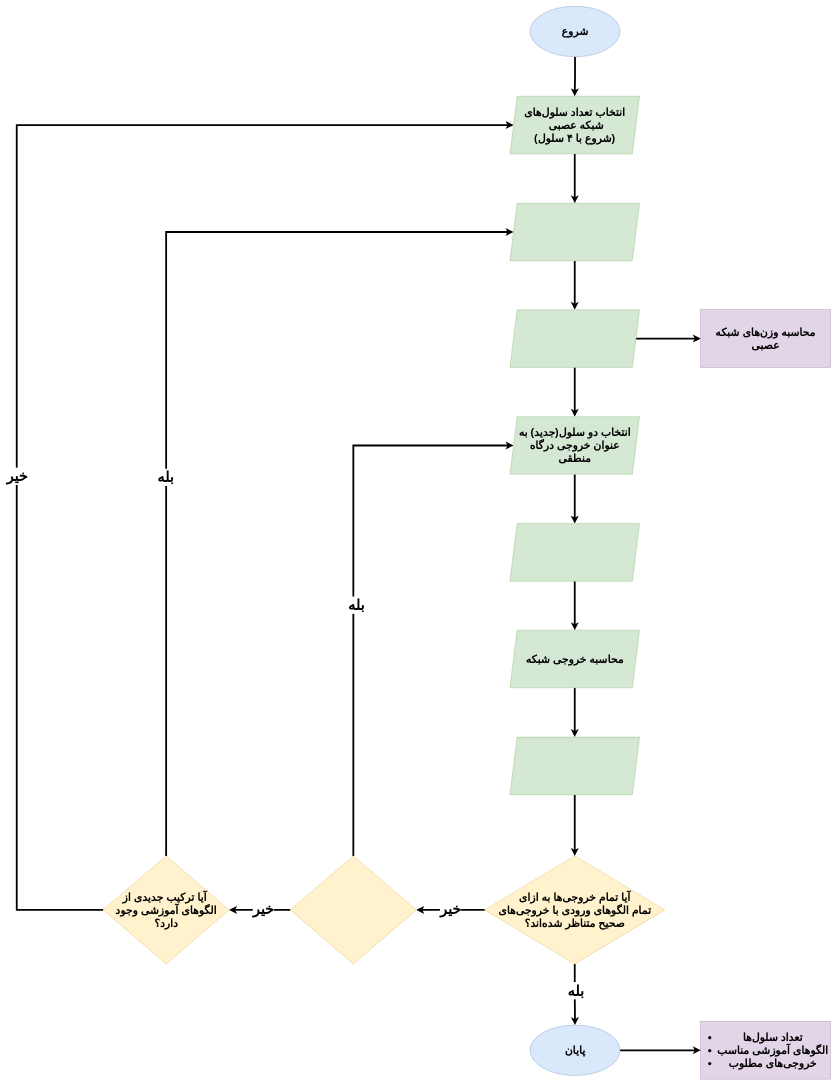
Some shapes in this 837 by 1087 pixel diagram are drawn without their labels. Here are the shapes that lost their labels. From the top down, the centre of each, then its label:
the point at 575,232: انتخاب الگوهای آموزشی (جدید)
the point at 575,338: آموزش شبکه هاپفیلد طبق قانون هب
the point at 575,552: اعمال الگوی ورودی به شبکه
the point at 575,766: مقایسه خروجی شبکه با خروجی صحیح
the point at 353,910: آیا جفت خروجی جدید وجود دارد ؟
